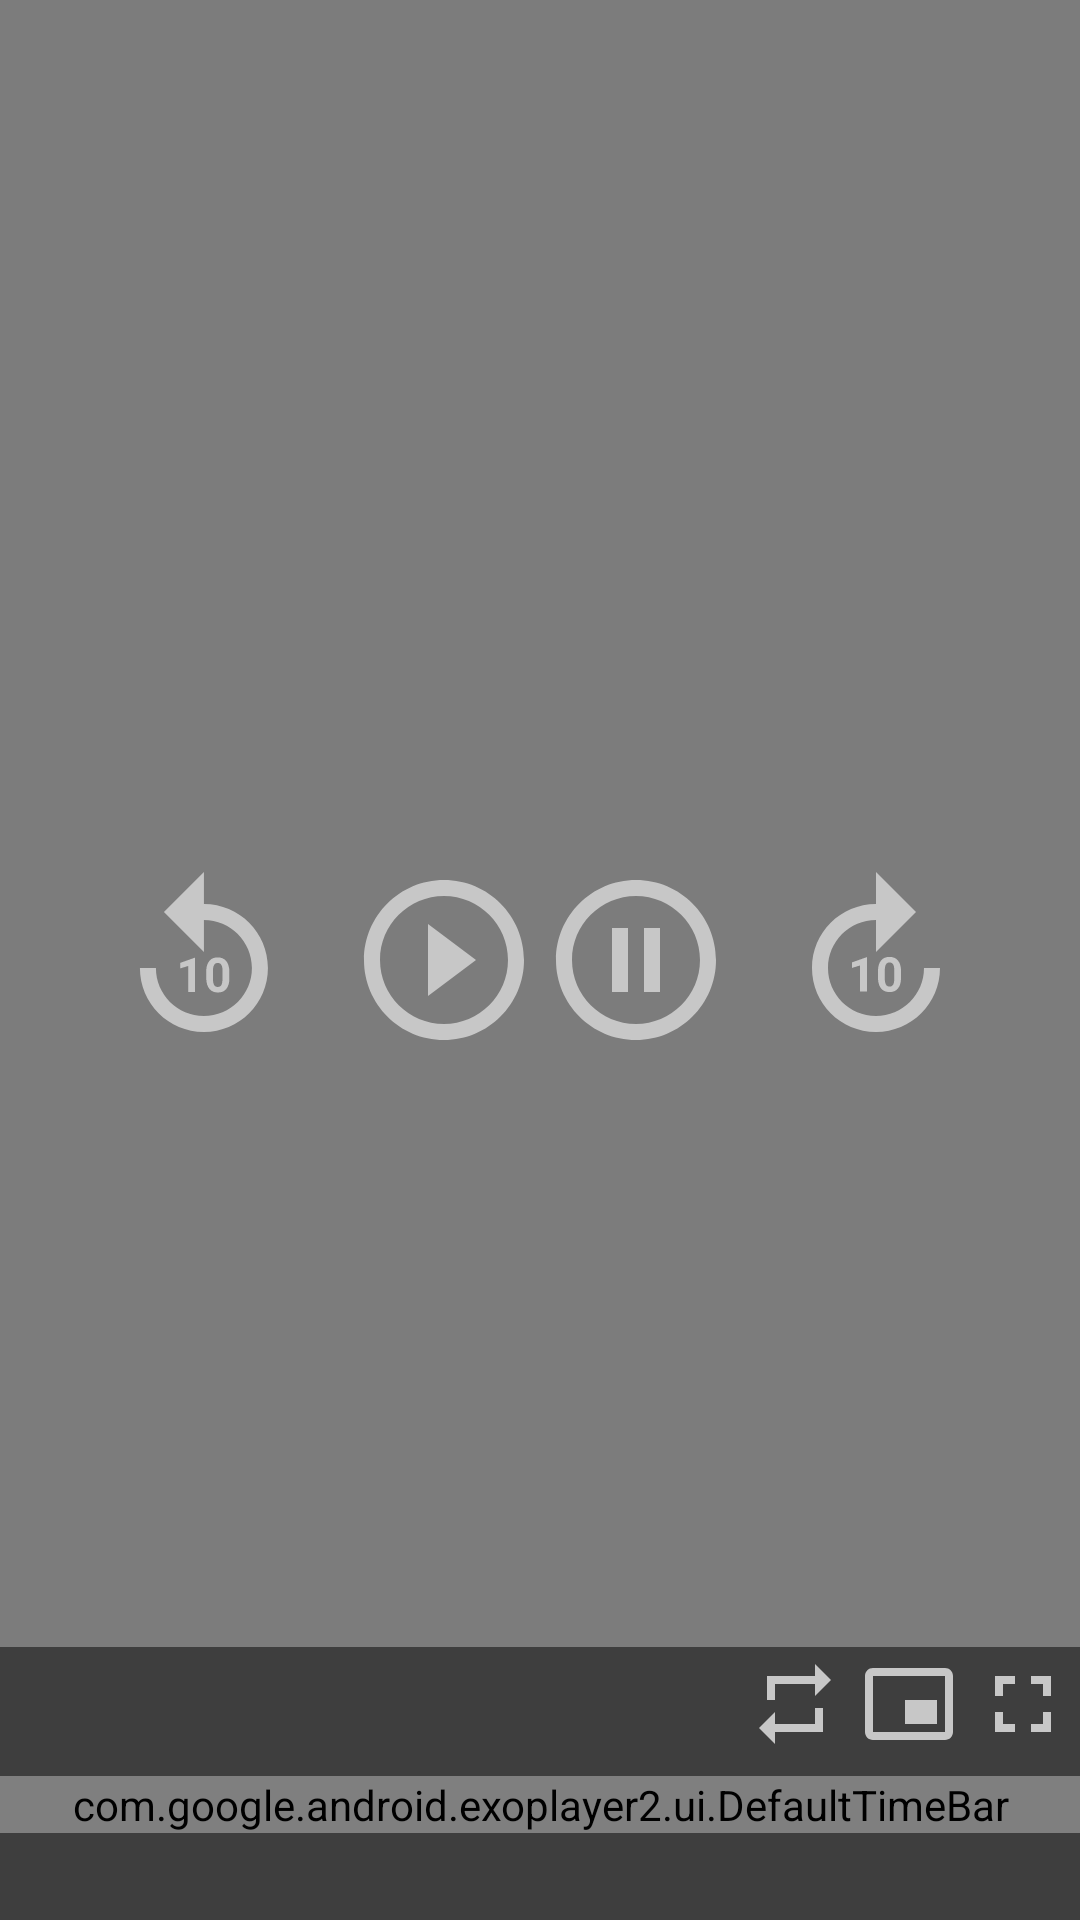

Named icons in this screenshot (1080*1920) and their centers, (x,y):
forward: (876,952)
fullscreen: (1023,1704)
pause: (636,960)
picture in: (909,1704)
play: (444,960)
repeat: (795,1704)
rewind: (204,952)
